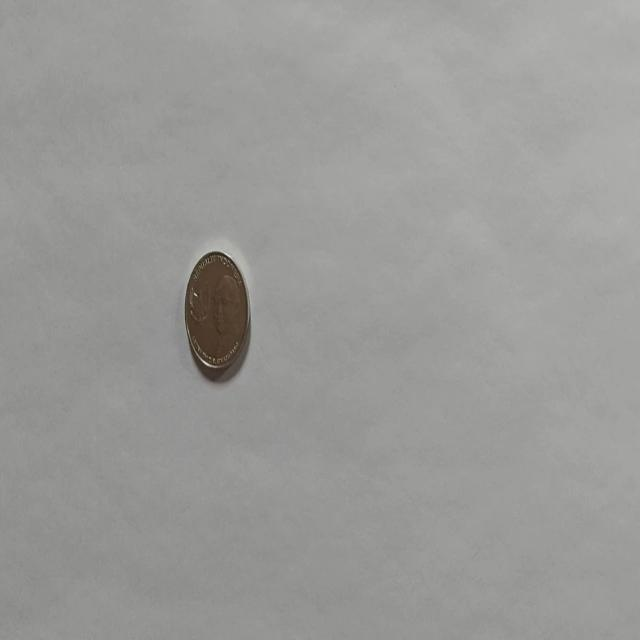lima ratus rupiah: (183, 249, 251, 375)
